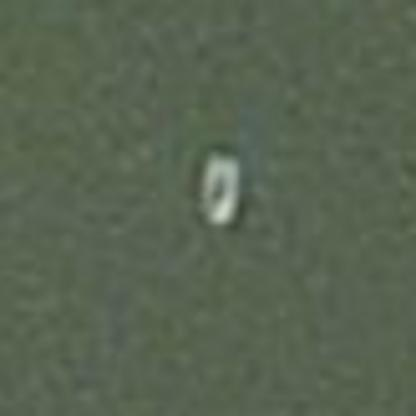ship: (186, 138, 254, 235)
